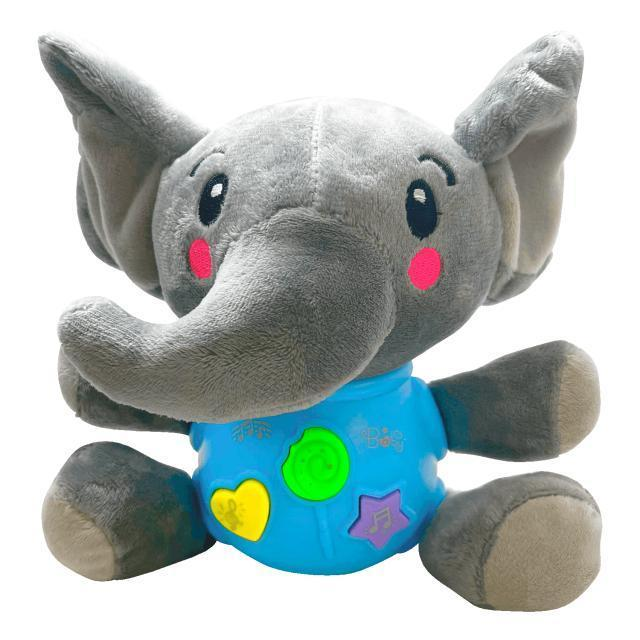soft-toy: (41, 36, 601, 610)
